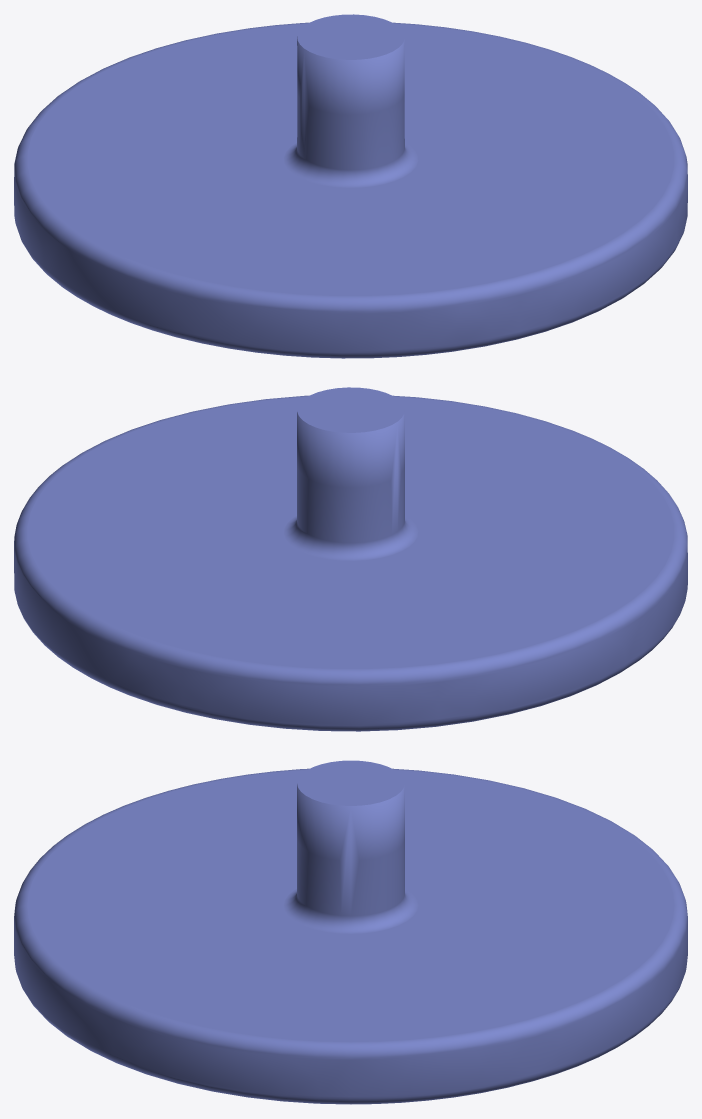
3 renders of one model, top to bottom at view 1: azimuth 30°, elevation 25°; view 2: azimuth 150°, elevation 25°; view 3: azimuth 270°, elevation 25°, orthographic.
Parts seen in each view (by area): view 1: base_link.001; view 2: base_link.001; view 3: base_link.001.
Boxes of the visible parts, x1,y1,x2,y2 form: base_link.001: (14, 14, 687, 358); base_link.001: (14, 387, 687, 731); base_link.001: (14, 760, 687, 1104).
Bounding box in the file's own units: 500 × 500 × 150.
